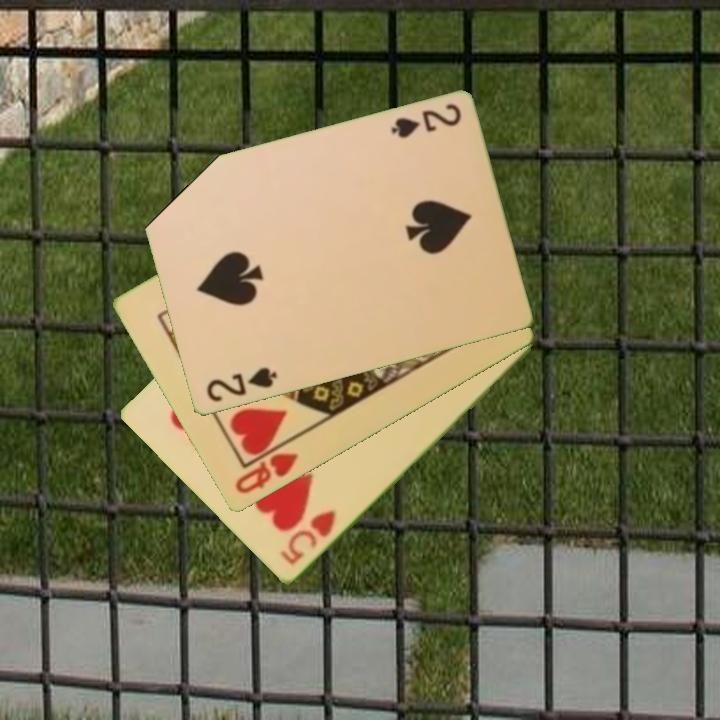2s: (202, 364, 280, 406), (387, 100, 464, 142)
5h: (276, 507, 339, 568)
Qh: (231, 437, 301, 498)
